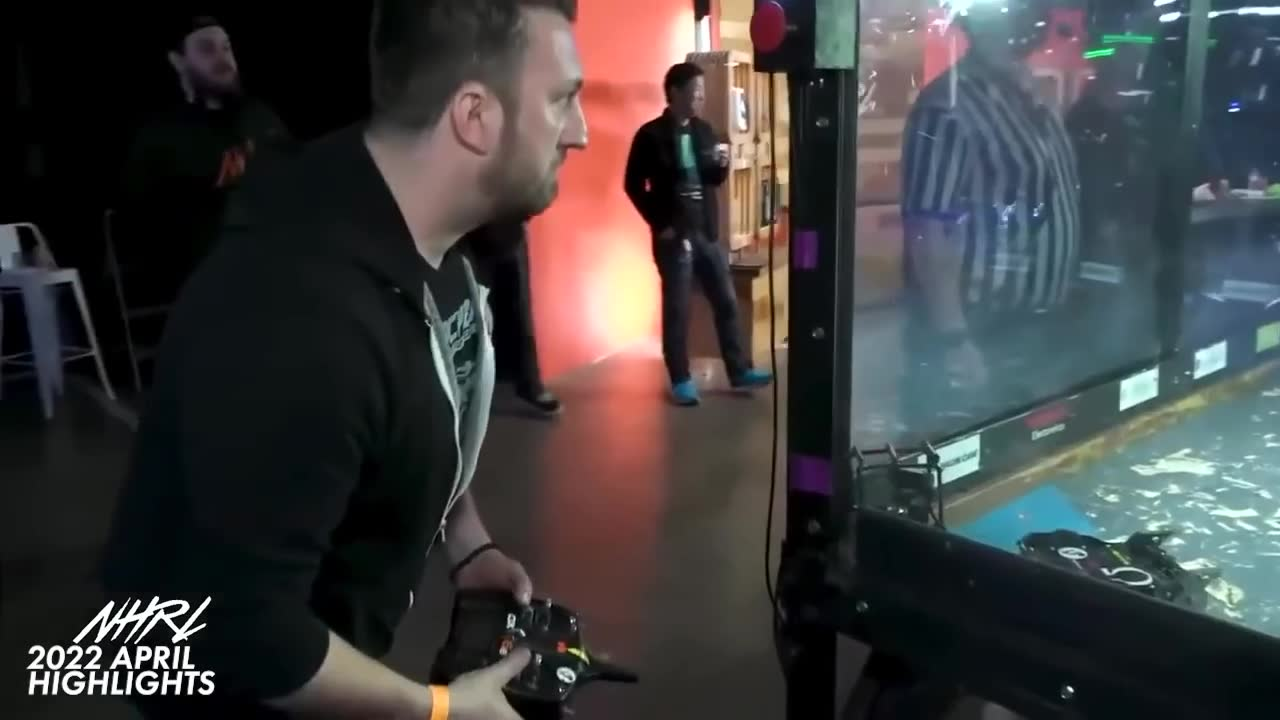combatbot: (1017, 529, 1220, 614)
